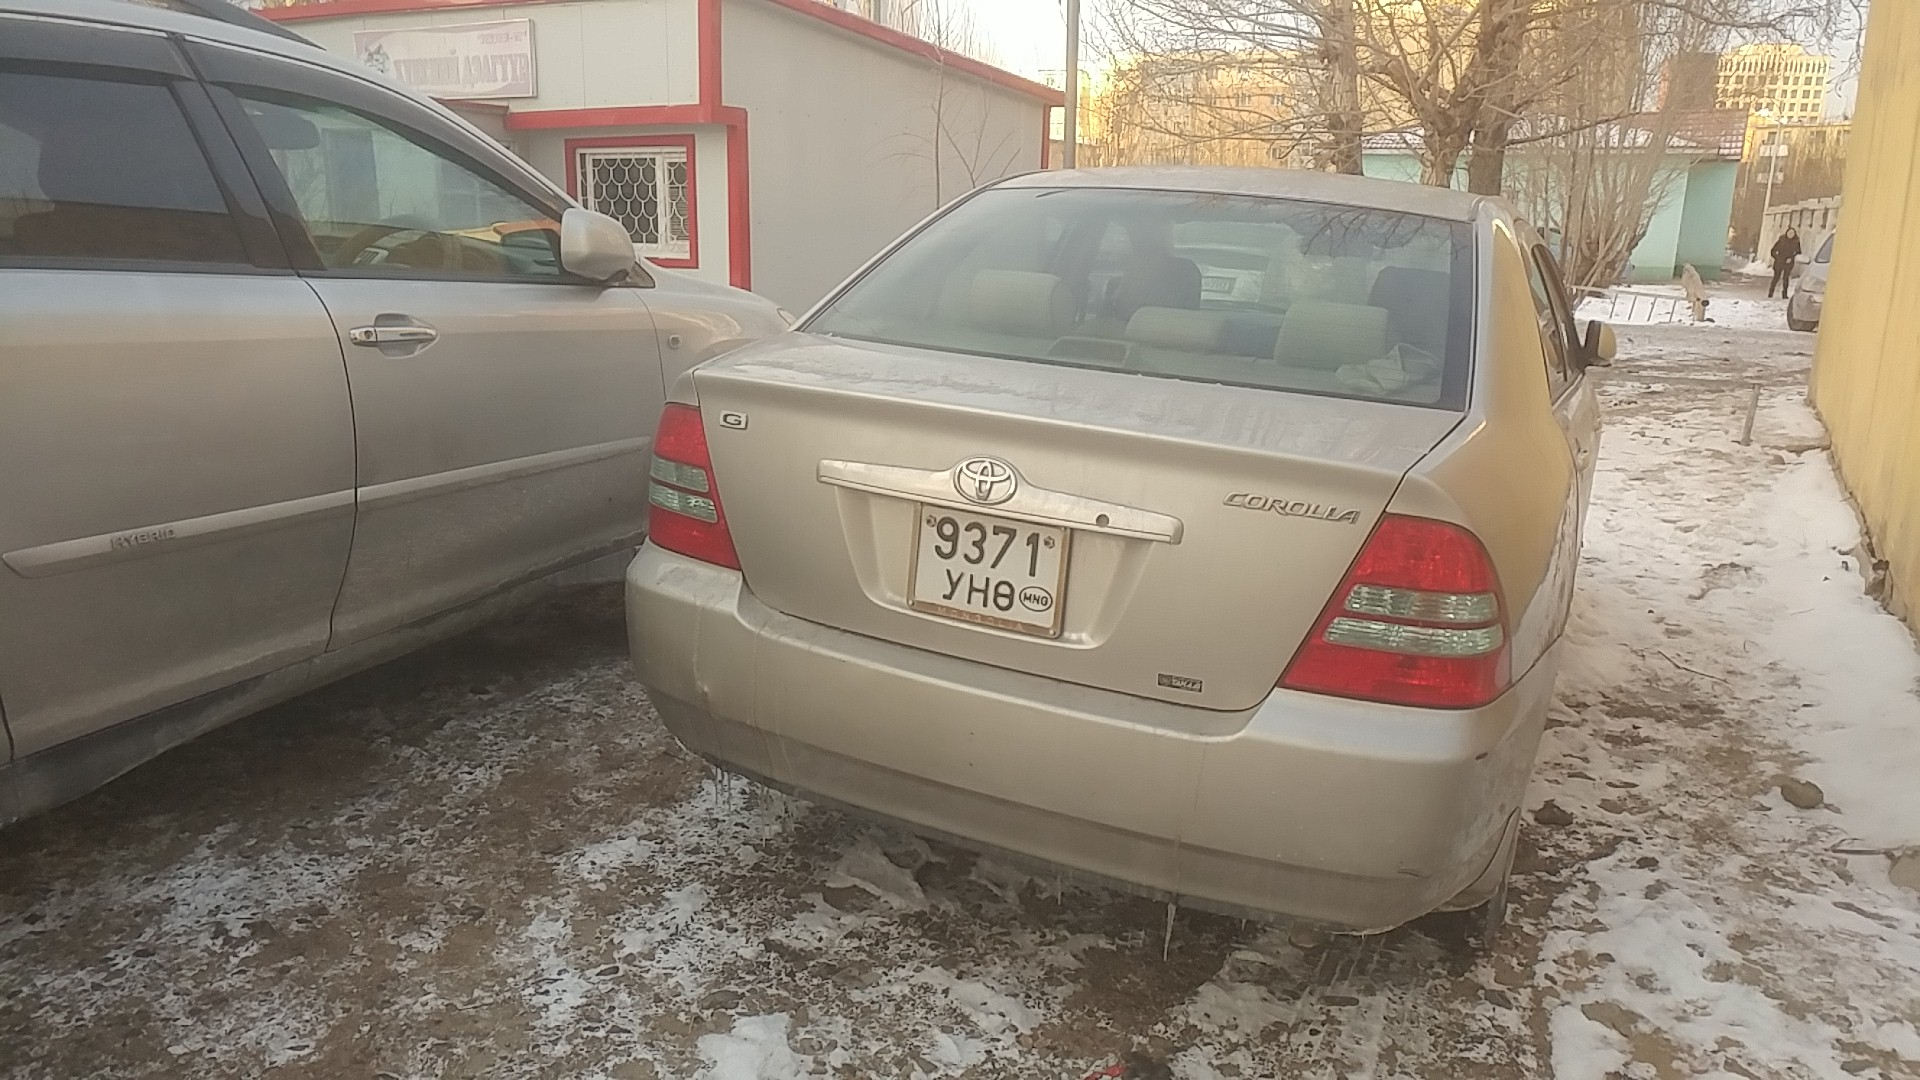1: (1024, 531, 1043, 576)
3: (962, 520, 988, 566)
7: (988, 524, 1021, 570)
9: (933, 514, 960, 561)
n: (965, 572, 992, 608)
plate: (906, 495, 1069, 638)
q: (992, 578, 1016, 613)
u: (939, 567, 967, 600)
